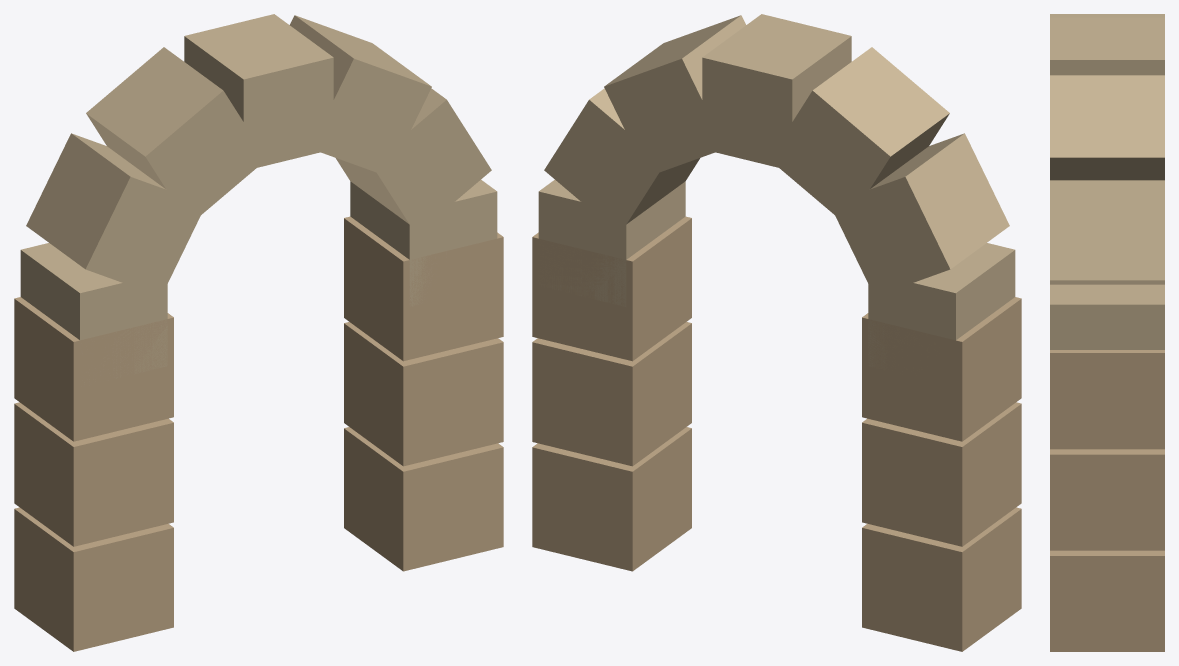
The picture shows the model from 3 angles, left to right: view 1: azimuth 30°, elevation 25°; view 2: azimuth 150°, elevation 25°; view 3: azimuth 270°, elevation 25°; orthographic projection. The views are drawn at different scales.
Visible parts, largest first — view 1: P08; view 2: P08; view 3: P08.
Part boxes in pixels (left/top/right/bottom): P08: left=14, top=14, right=503, bottom=651; P08: left=532, top=14, right=1021, bottom=651; P08: left=1050, top=14, right=1164, bottom=651.
Bounding box in the file's own units: 1.67 × 1.97 × 0.4.
